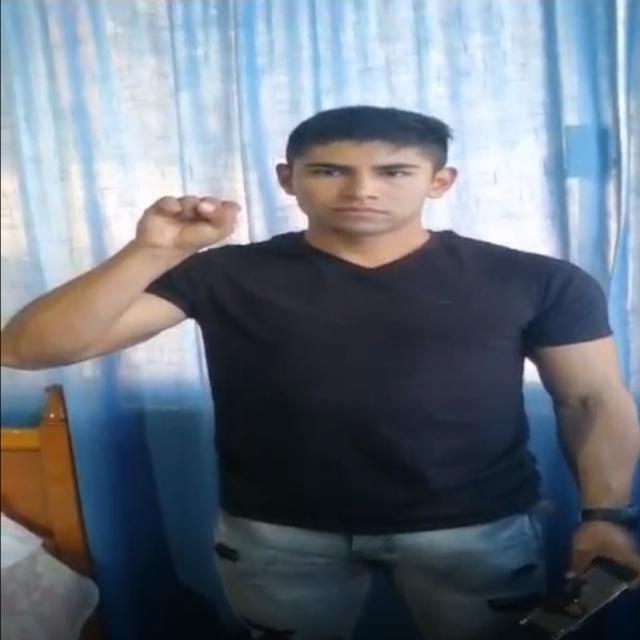S: (132, 173, 252, 284)
